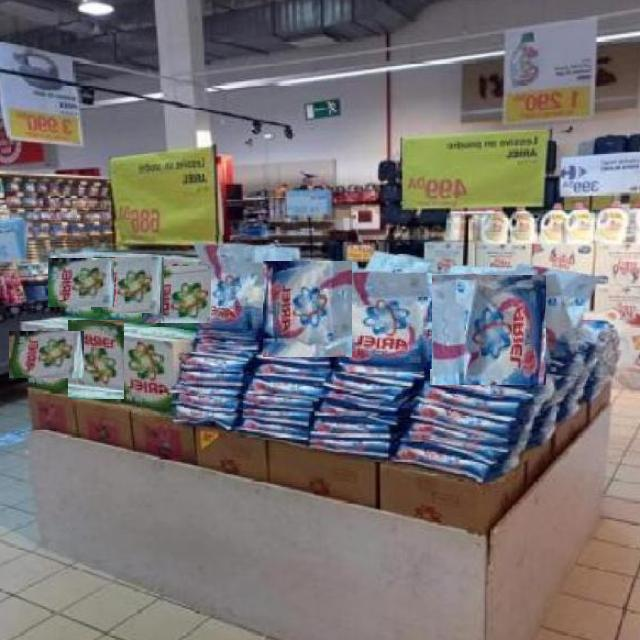Detergent: (430, 274, 546, 385), (339, 274, 432, 369), (262, 262, 352, 357), (196, 236, 260, 340), (119, 327, 184, 410), (68, 320, 124, 399), (90, 258, 164, 313), (141, 267, 211, 323), (9, 331, 84, 378), (47, 259, 114, 307)
